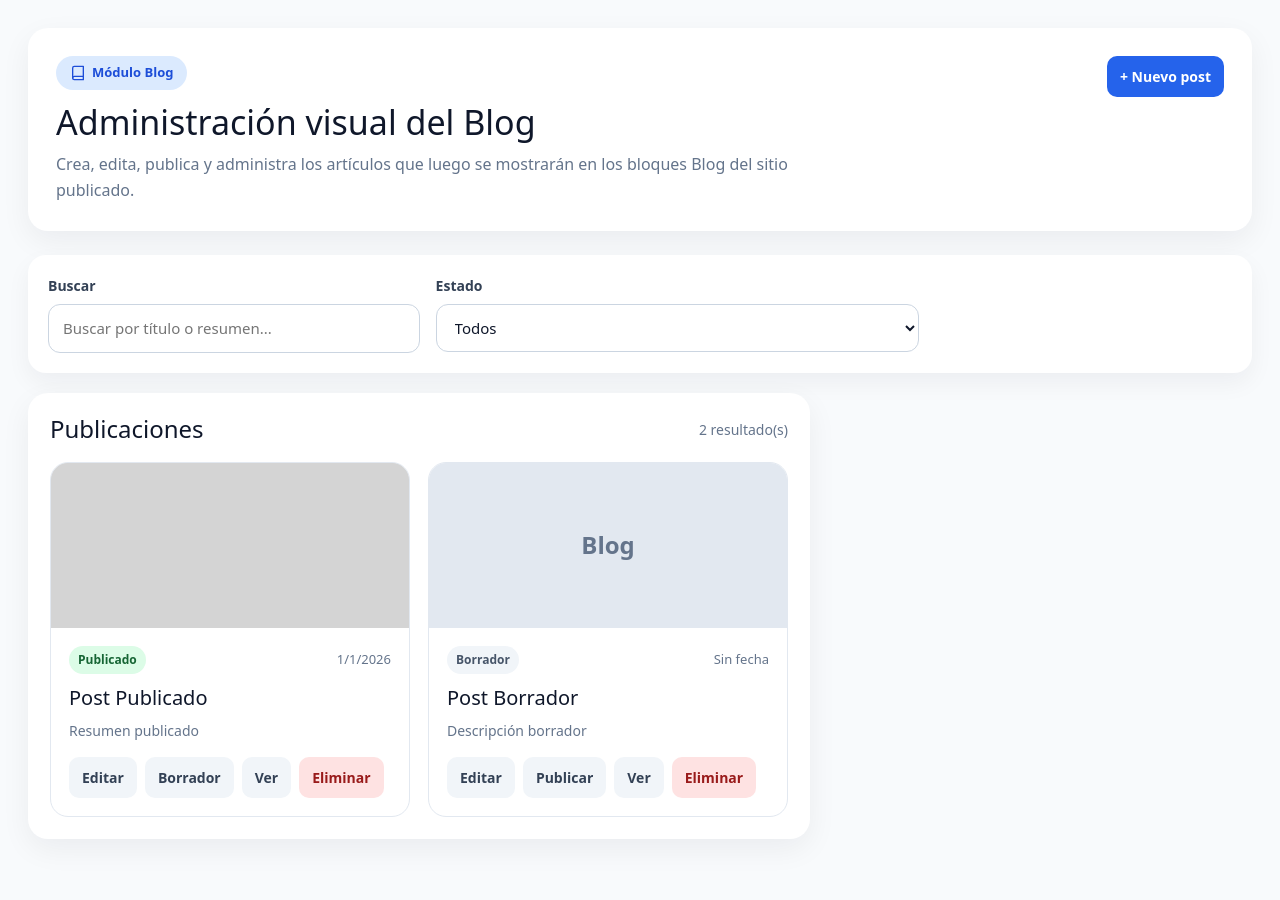
Test: Blog page › filters posts by search
expect the heading "Post Publicado" is shown: met, box top-left (69, 684), bottom-right (208, 711)
Type "Borrador" into the search field with placeholder "Buscar por título o resumen..." at (234, 329), box top-left (48, 304), bottom-right (420, 353)
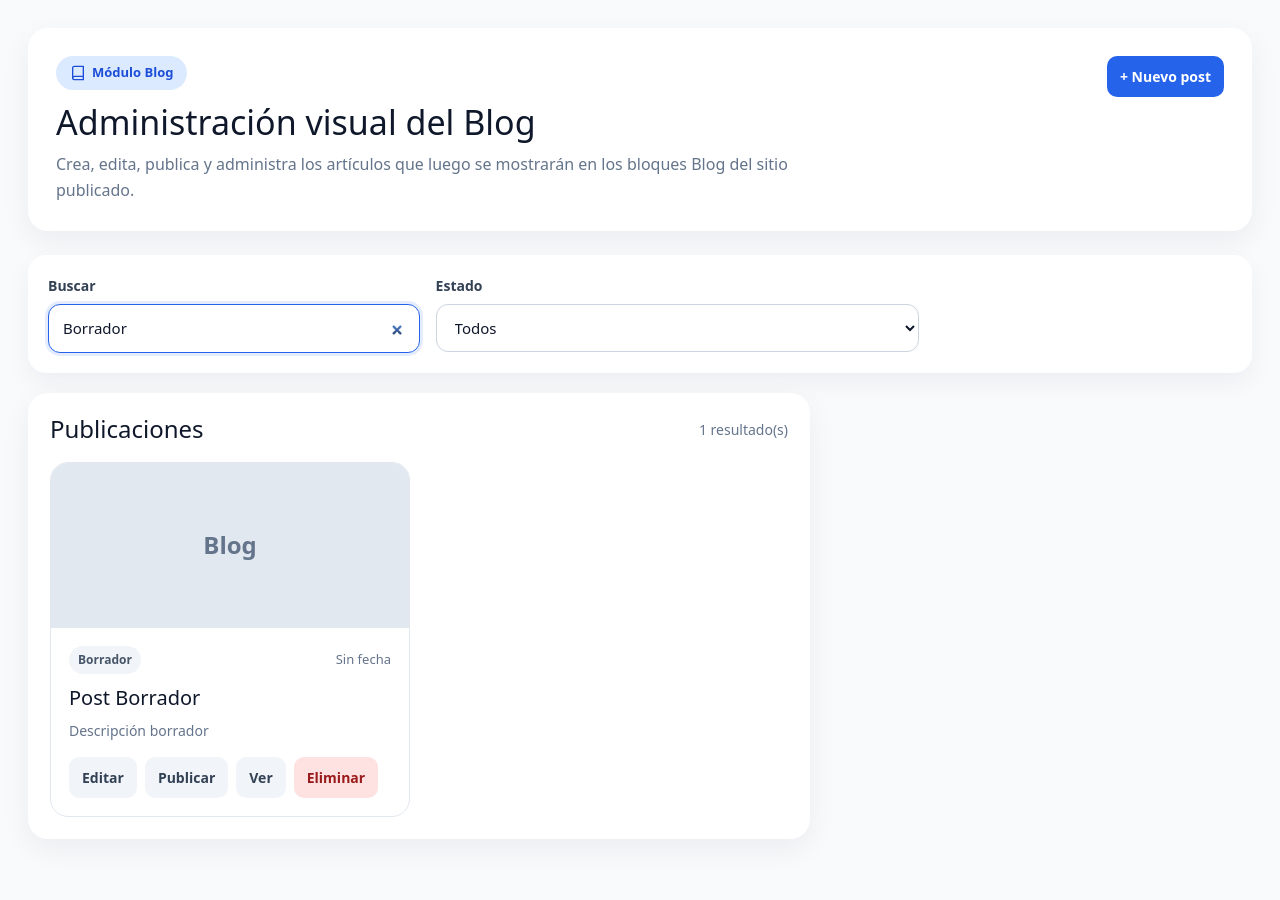
expect the heading "Post Borrador" is shown: met, box top-left (69, 684), bottom-right (200, 711)
expect the heading "Post Publicado" is gone: met
expect the text "1 resultado(s)" is shown: met, box top-left (699, 419), bottom-right (788, 440)
